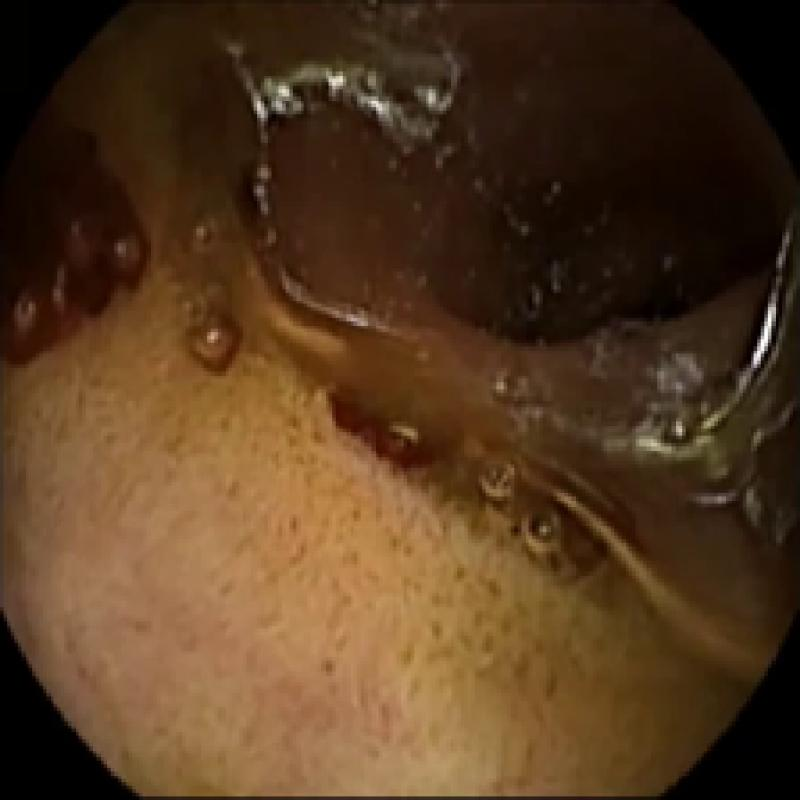bleeding: (4, 111, 150, 364), (326, 381, 440, 472)
